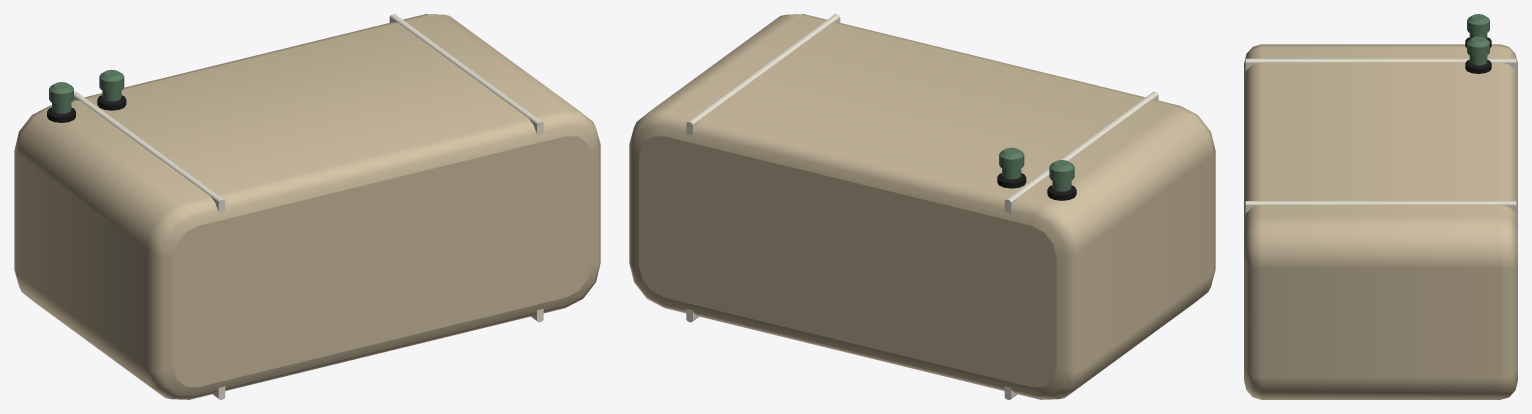
Rendered from t10_cabinet.obj.
The picture shows the model from 3 angles, left to right: view 1: azimuth 30°, elevation 25°; view 2: azimuth 150°, elevation 25°; view 3: azimuth 270°, elevation 25°; orthographic projection. The views are drawn at different scales.
Parts seen in each view (by area): view 1: t10_cabinet; view 2: t10_cabinet; view 3: t10_cabinet.
Boxes of the visible parts, x1=… form: t10_cabinet: x1=14, y1=14, x2=600, y2=399; t10_cabinet: x1=629, y1=14, x2=1215, y2=399; t10_cabinet: x1=1244, y1=14, x2=1517, y2=399.
Bounding box in the file's own units: 2.69 × 1.31 × 1.55.
